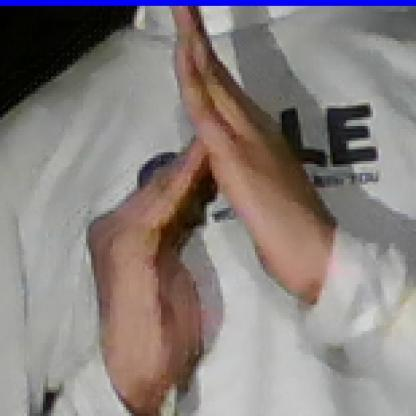Z: (76, 5, 311, 359)
